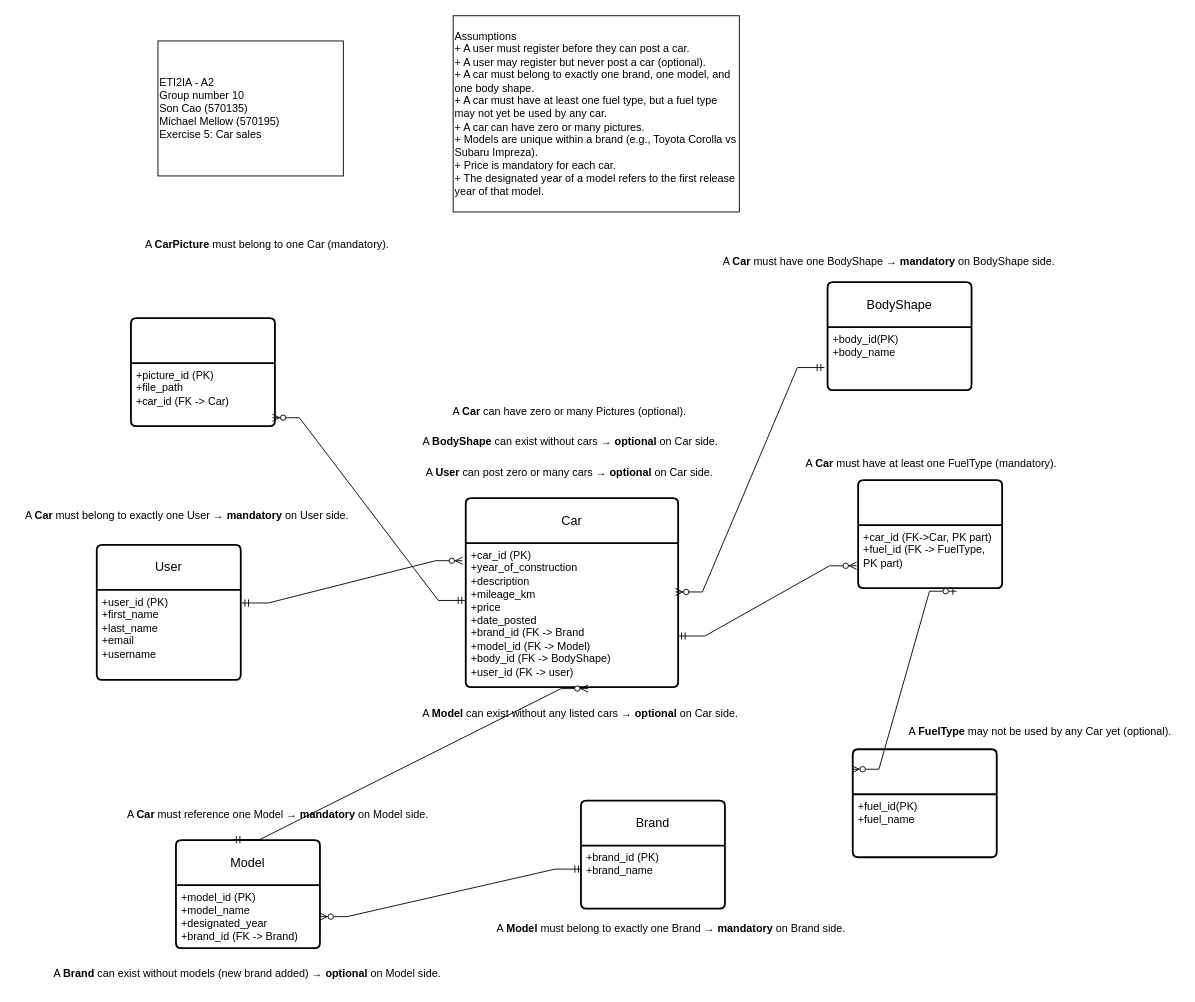
The diagram is 1195 pixels wide and 1002 high, and some of its shapes have lost their labels. The shapes that lost their labels are listed below. From the top down, each one's box as (x1, y1, x2, y2) in pixels, then its label:
(130, 317, 275, 427): CarPicture
(857, 479, 1003, 589): CarFuel
(851, 748, 997, 858): FuelType
